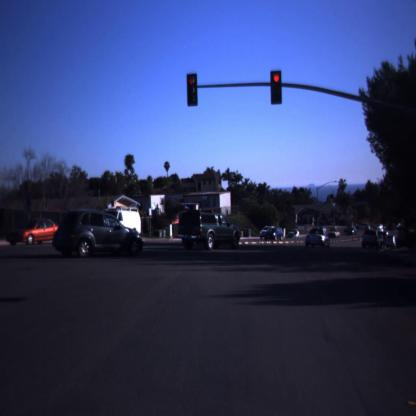trafficlight: (268, 68, 284, 105), (184, 73, 200, 108)
